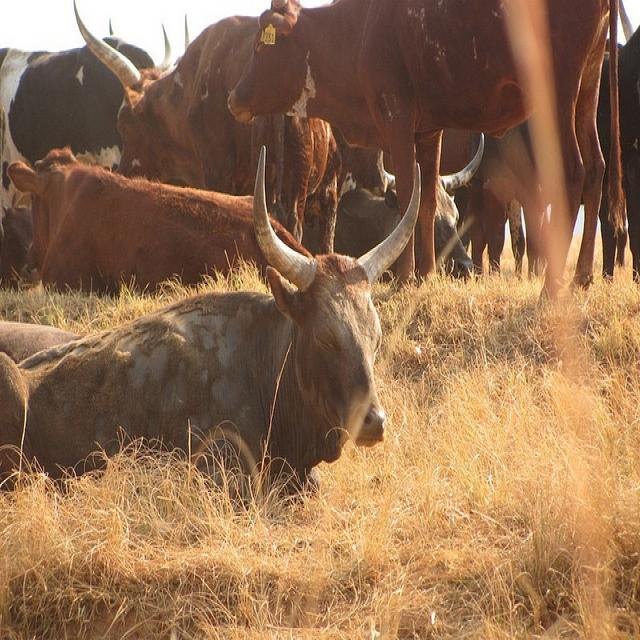cow: (0, 139, 421, 499), (225, 0, 627, 307), (75, 0, 338, 239), (18, 147, 264, 289), (0, 38, 147, 218), (333, 132, 483, 276), (437, 108, 547, 273), (622, 23, 639, 269)
